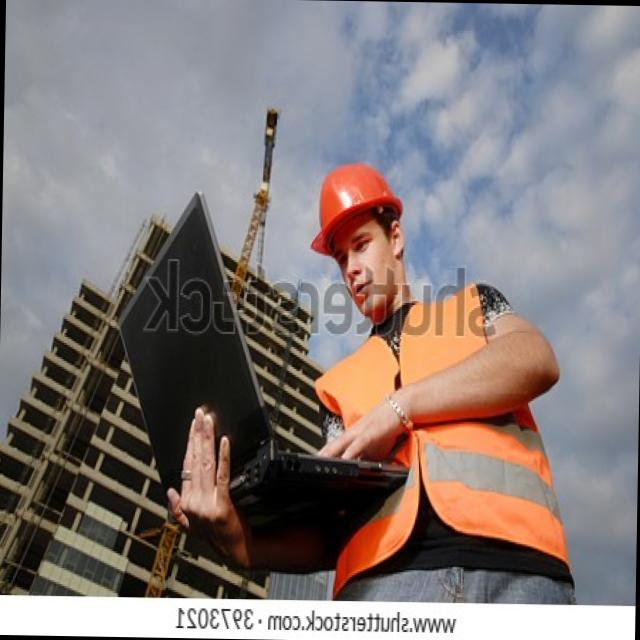helmet: (310, 161, 394, 261)
no-goggles: (318, 216, 404, 270)
vest: (326, 278, 490, 556)
